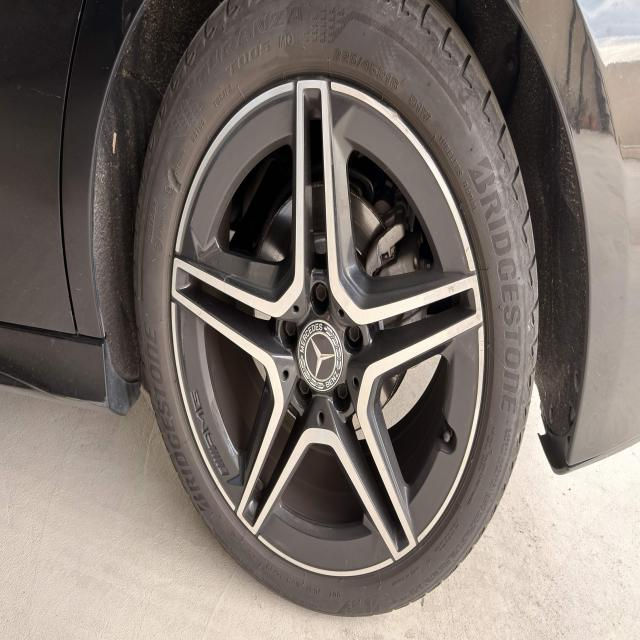jante: (171, 79, 487, 572)
parafuso: (314, 279, 327, 304), (285, 313, 296, 341), (337, 376, 347, 403), (298, 374, 309, 397), (349, 322, 359, 346)
roda: (133, 3, 540, 618)
